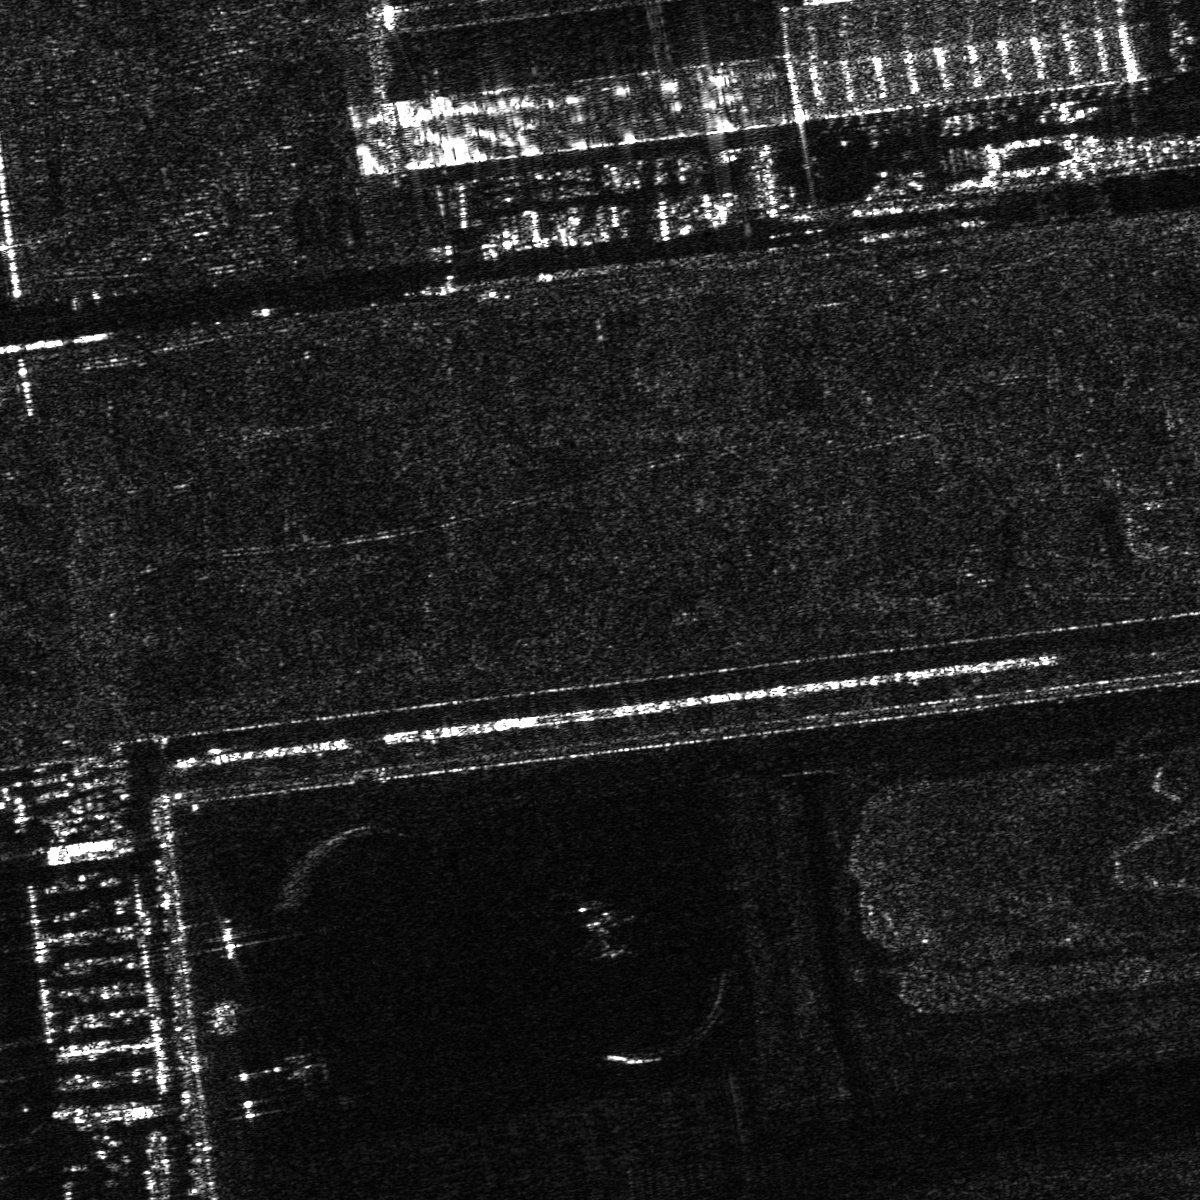A220: (568, 903, 637, 962)
